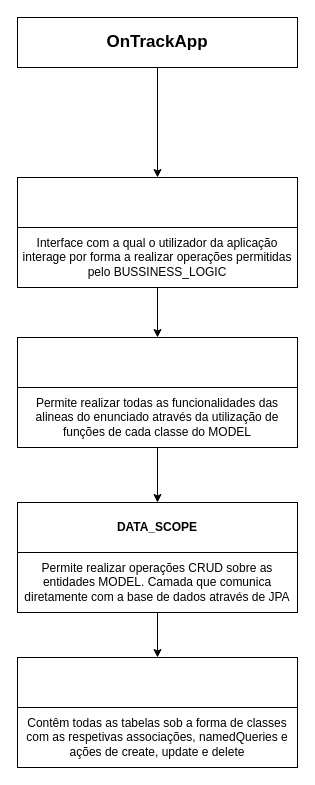
Some shapes in this 315 by 785 pixel diagram are drawn without their labels. Each missing label, with the centre of its shape:
"BUSSINESS_LOGIC" belongs at [157,362].
"MODEL" belongs at [157,682].
"PRESENTATION" belongs at [157,202].
